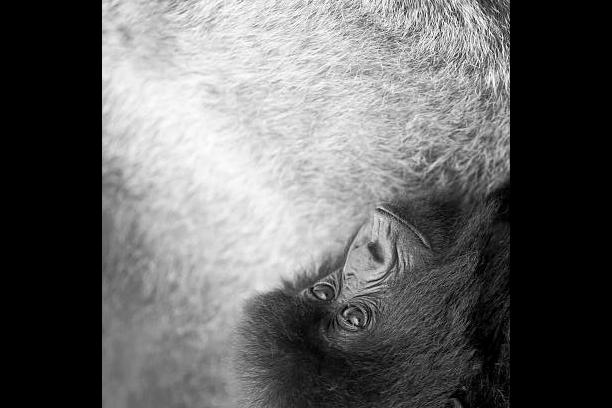goriile_montagne: (223, 179, 498, 408)
